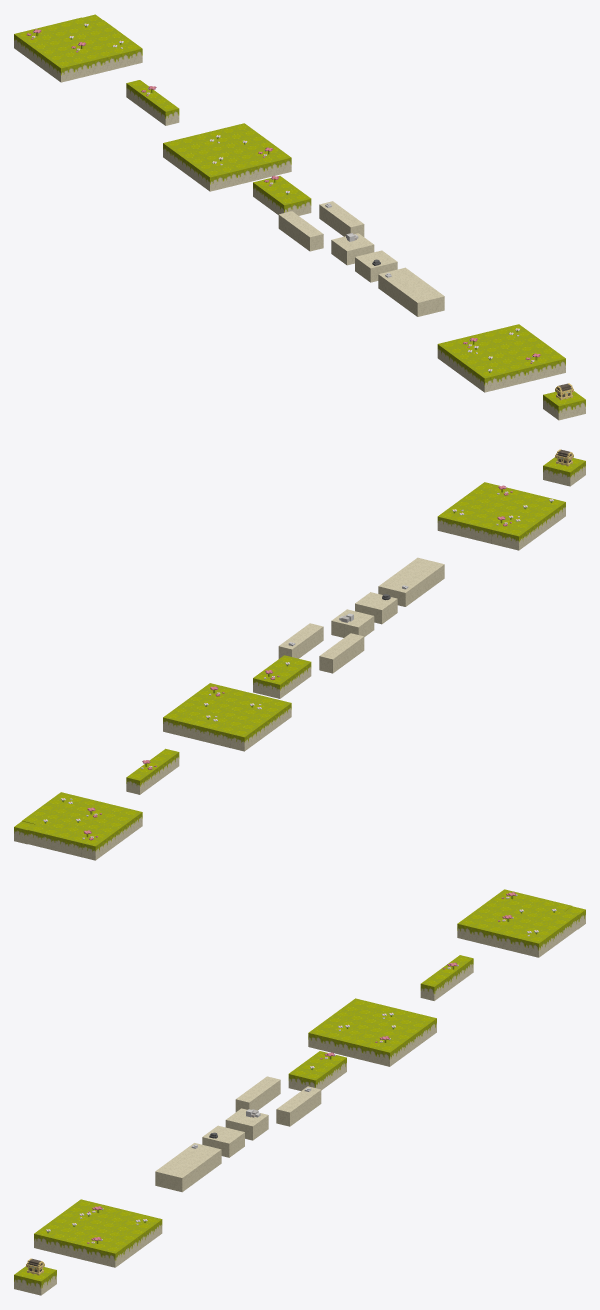
The model's file is Stage_7.fbx.
The picture shows the model from 3 angles, top to bottom: view 1: azimuth 30°, elevation 25°; view 2: azimuth 150°, elevation 25°; view 3: azimuth 330°, elevation 25°; orthographic projection.
Bounding box in the file's own units: 1920 × 585 × 21120.
9 materials, 9 textured.
